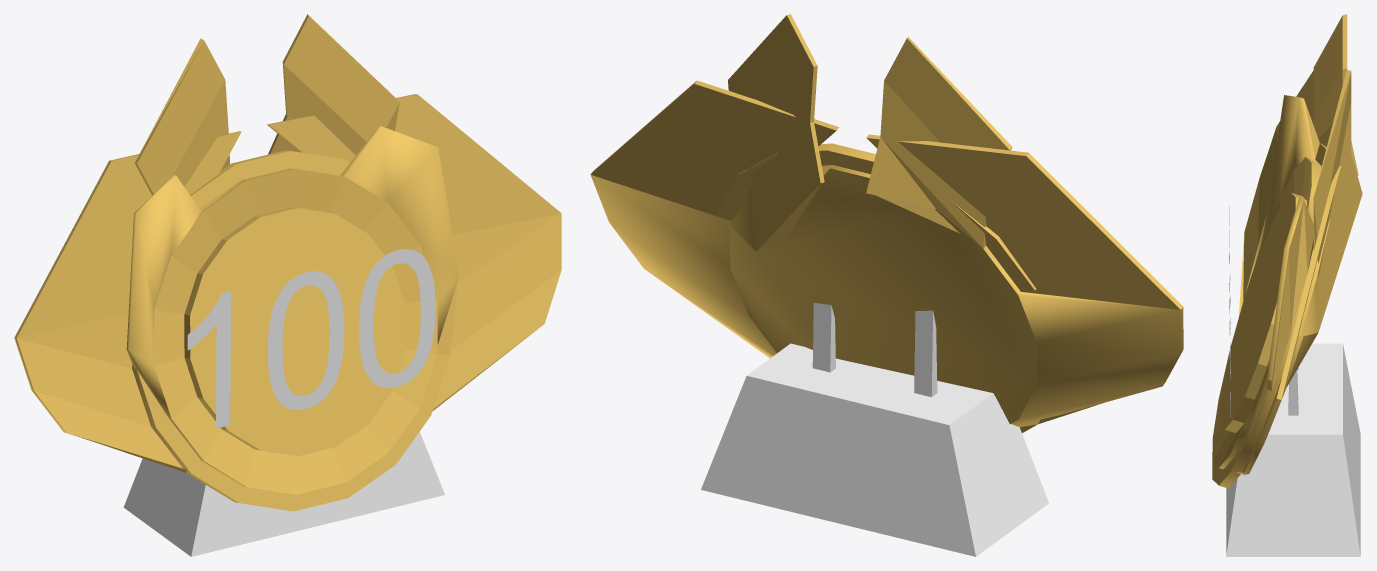
Rendered from gallery6.fbx.
The picture shows the model from 3 angles, left to right: view 1: azimuth 30°, elevation 25°; view 2: azimuth 150°, elevation 25°; view 3: azimuth 270°, elevation 25°; orthographic projection. The views are drawn at different scales.
Parts seen in each view (by area): view 1: Cylinder001, Box001, TextPlus001; view 2: Cylinder001, Box001; view 3: Cylinder001, Box001, TextPlus001.
Part boxes in pixels (box(x1,y1,x2,y2)): Cylinder001: box(14, 14, 561, 511); Box001: box(123, 432, 444, 556); TextPlus001: box(187, 249, 435, 428); Cylinder001: box(590, 14, 1183, 432); Box001: box(701, 302, 1048, 556); Cylinder001: box(1212, 14, 1362, 488); Box001: box(1226, 343, 1360, 556); TextPlus001: box(1229, 206, 1230, 417).
Bounding box in the file's own units: 41.71 × 33.42 × 10.03.
